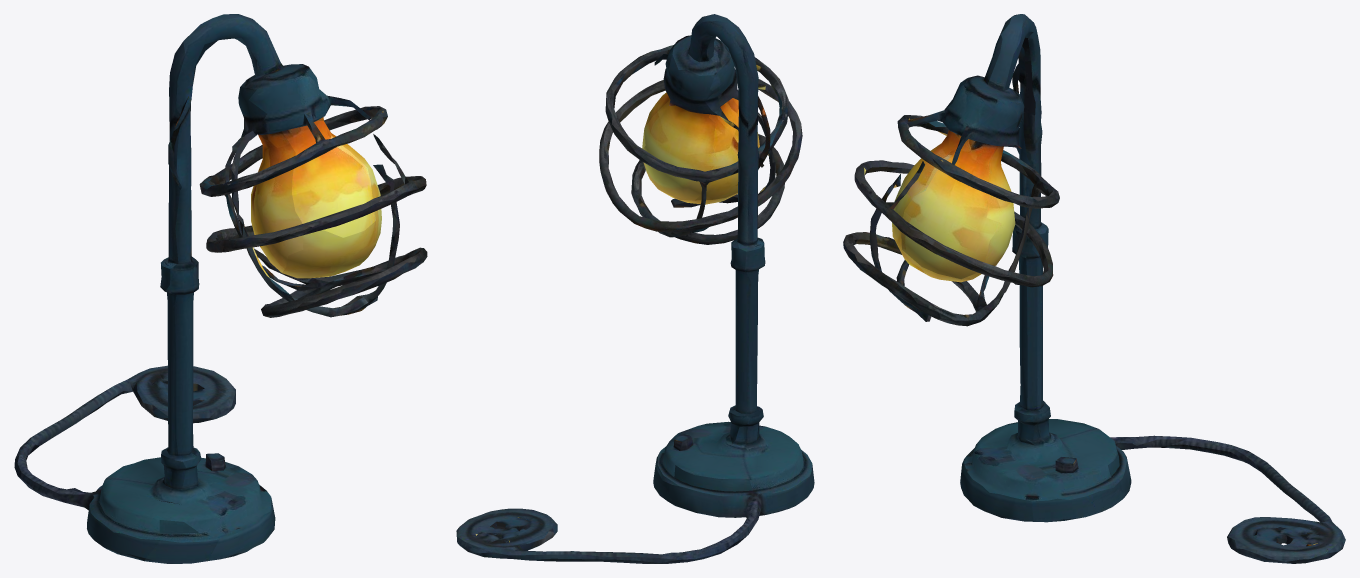
File: glow_lamp.glb
3 renders of one model, left to right at view 1: azimuth 30°, elevation 25°; view 2: azimuth 150°, elevation 25°; view 3: azimuth 270°, elevation 25°, orthographic. The views are drawn at different scales.
Visible parts, largest first — view 1: glow_lamp; view 2: glow_lamp; view 3: glow_lamp.
Boxes of the visible parts, x1=… form: glow_lamp: x1=14, y1=14, x2=427, y2=563; glow_lamp: x1=456, y1=14, x2=814, y2=563; glow_lamp: x1=843, y1=14, x2=1345, y2=563.
Bounding box in the file's own units: 0.5511 × 1 × 0.9474.
1 material, 1 textured.
